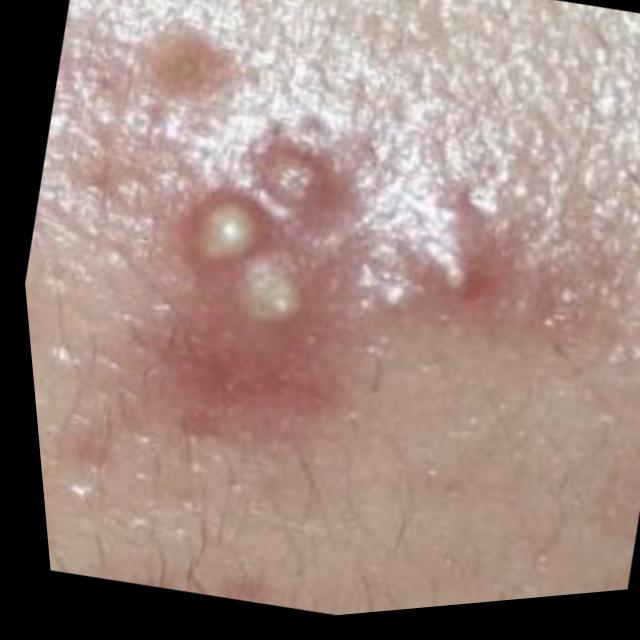pustule: (111, 118, 405, 379)
